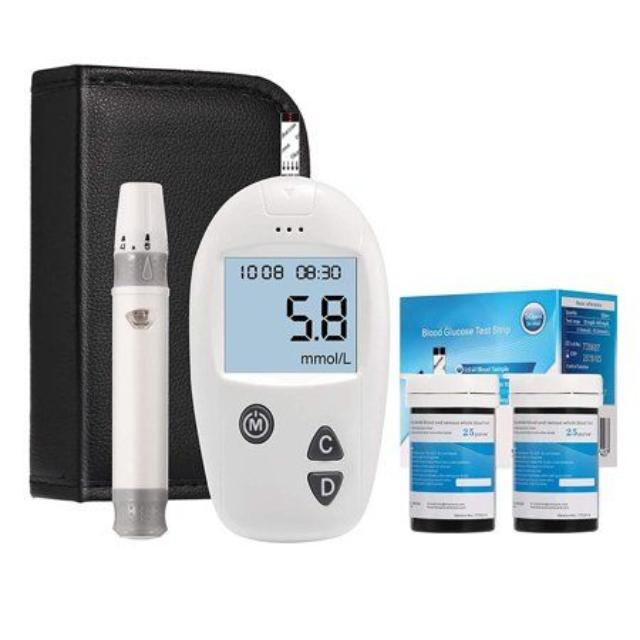Glucose-Meter: (190, 110, 389, 541)
